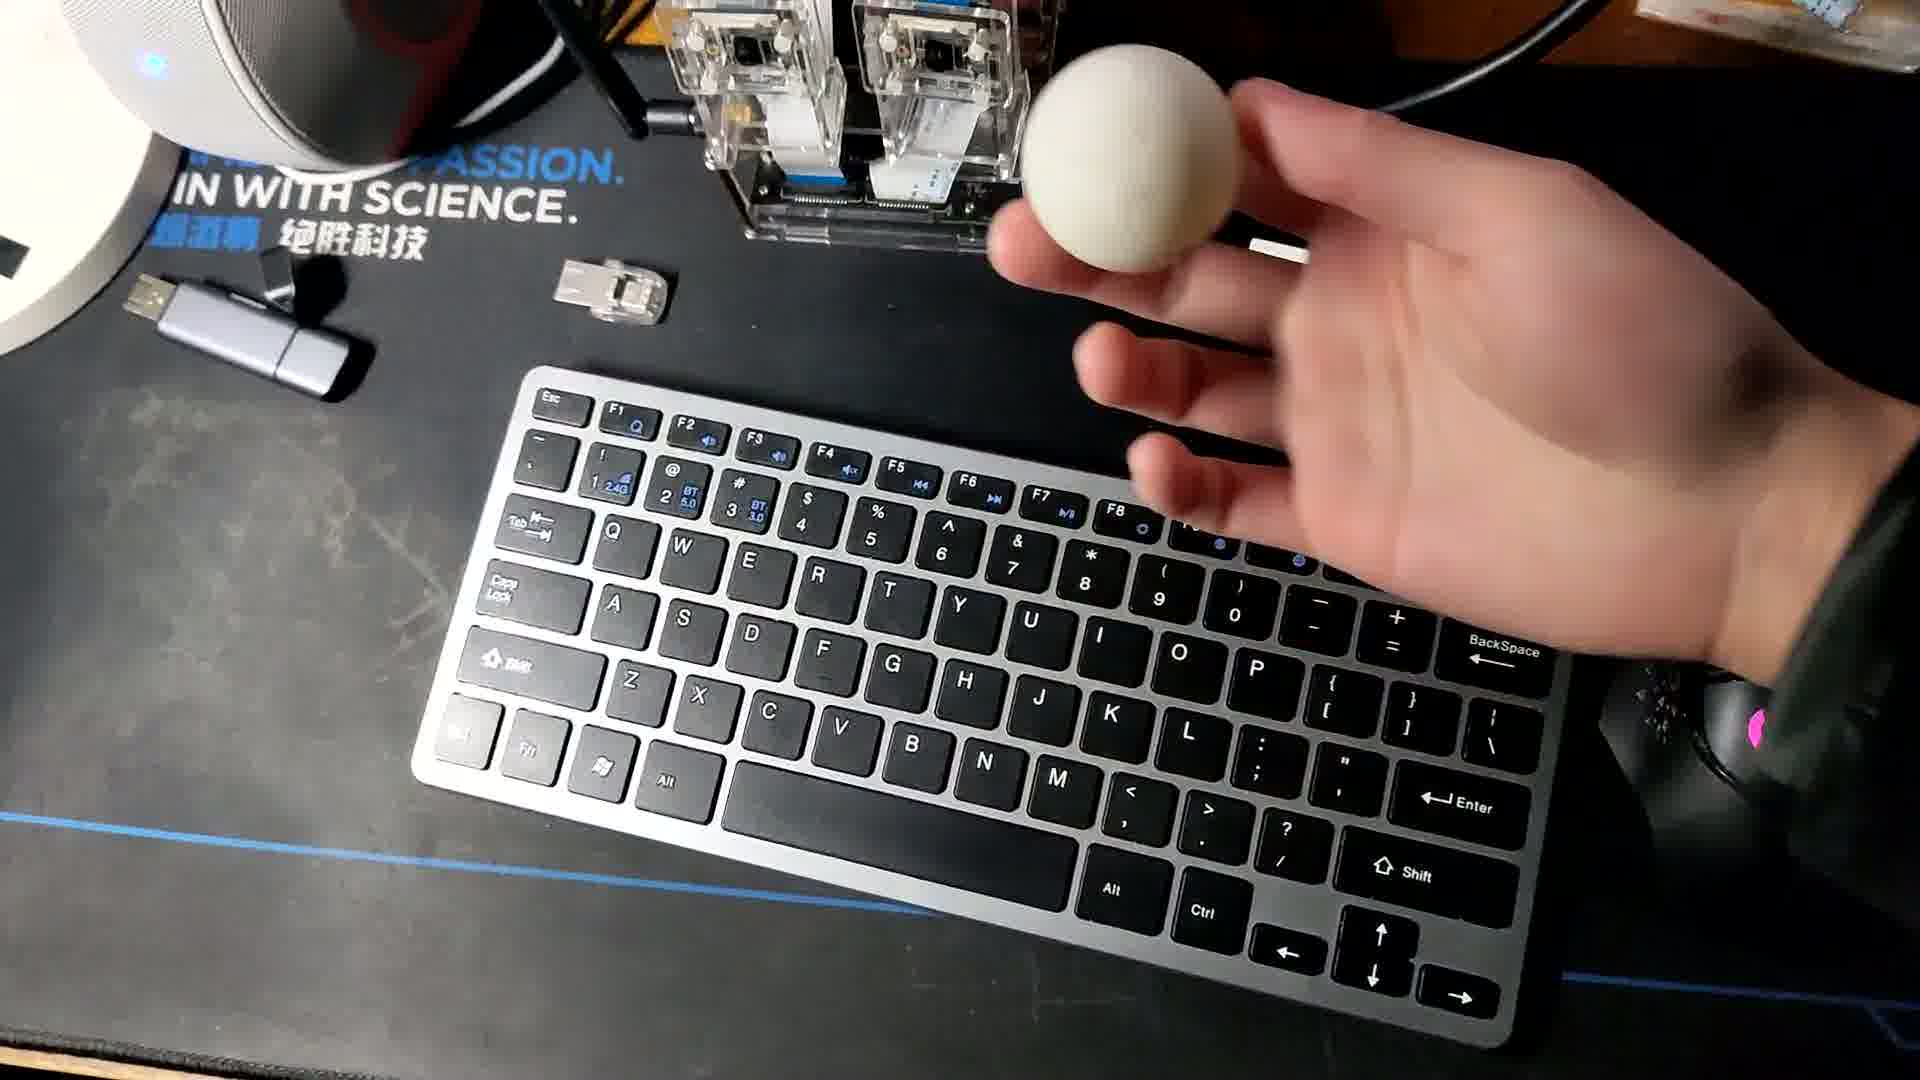Ball: (1025, 50, 1244, 277)
